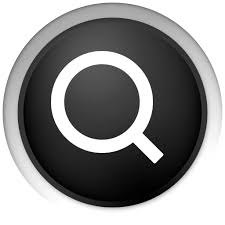searchIcon: (51, 49, 163, 167)
